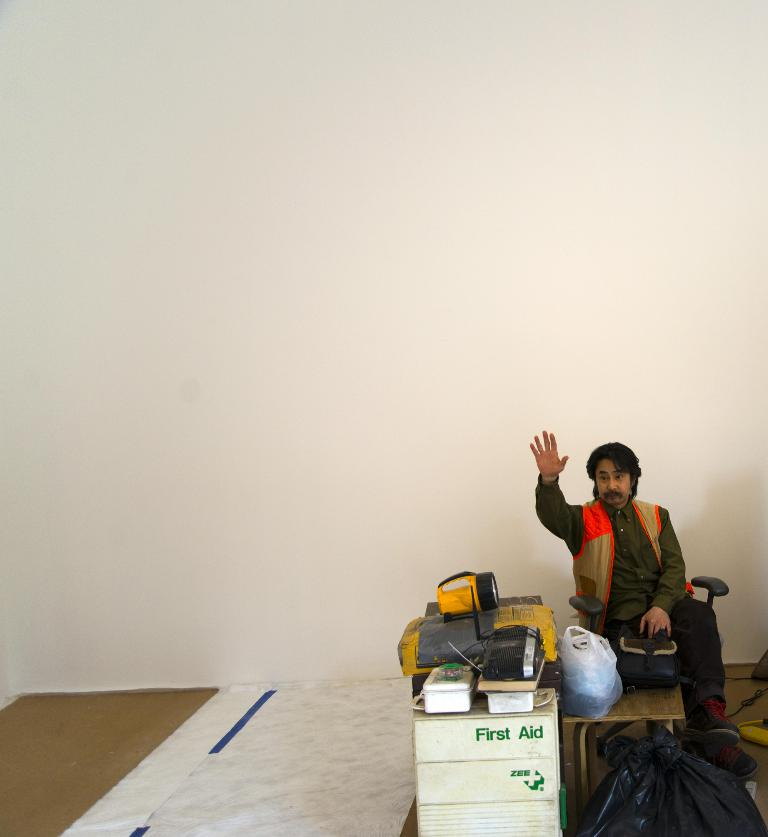Footwear: (699, 724, 752, 785)
